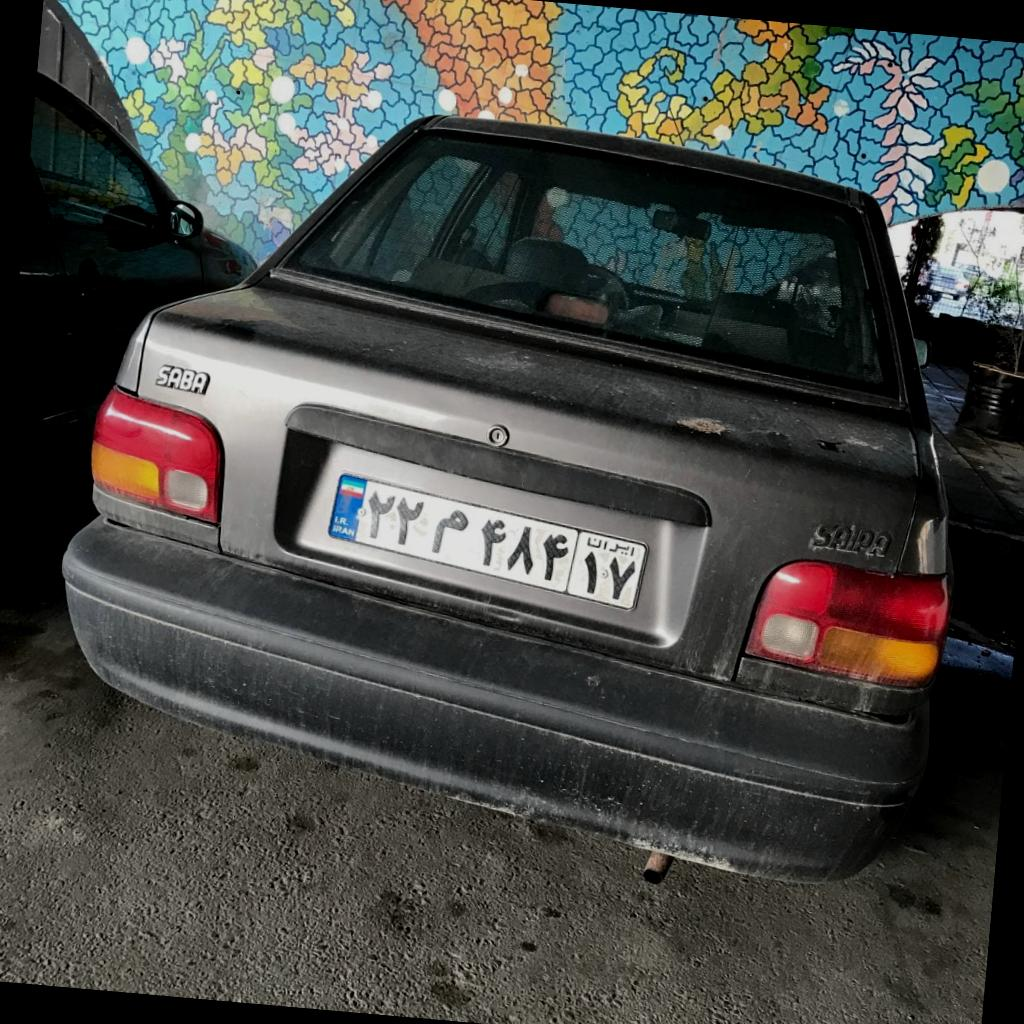Plates: (327, 474, 646, 608)
